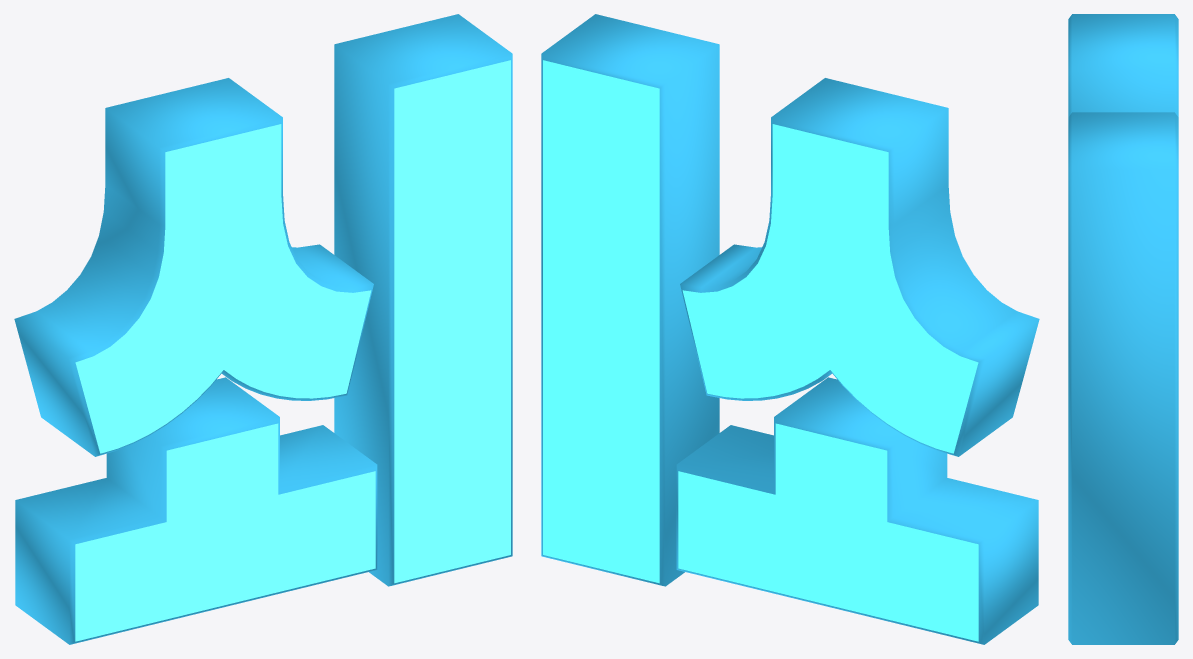
The picture shows the model from 3 angles, left to right: view 1: azimuth 30°, elevation 25°; view 2: azimuth 150°, elevation 25°; view 3: azimuth 270°, elevation 25°; orthographic projection. The views are drawn at different scales.
Visible parts, largest first — view 1: glyph; view 2: glyph; view 3: glyph.
Boxes of the visible parts, x1,y1,x2,y2 form: glyph: [14, 14, 512, 644]; glyph: [541, 14, 1039, 644]; glyph: [1068, 14, 1178, 644].
Size of the model in its own units: 0.071 by 0.0768 by 0.0162.
